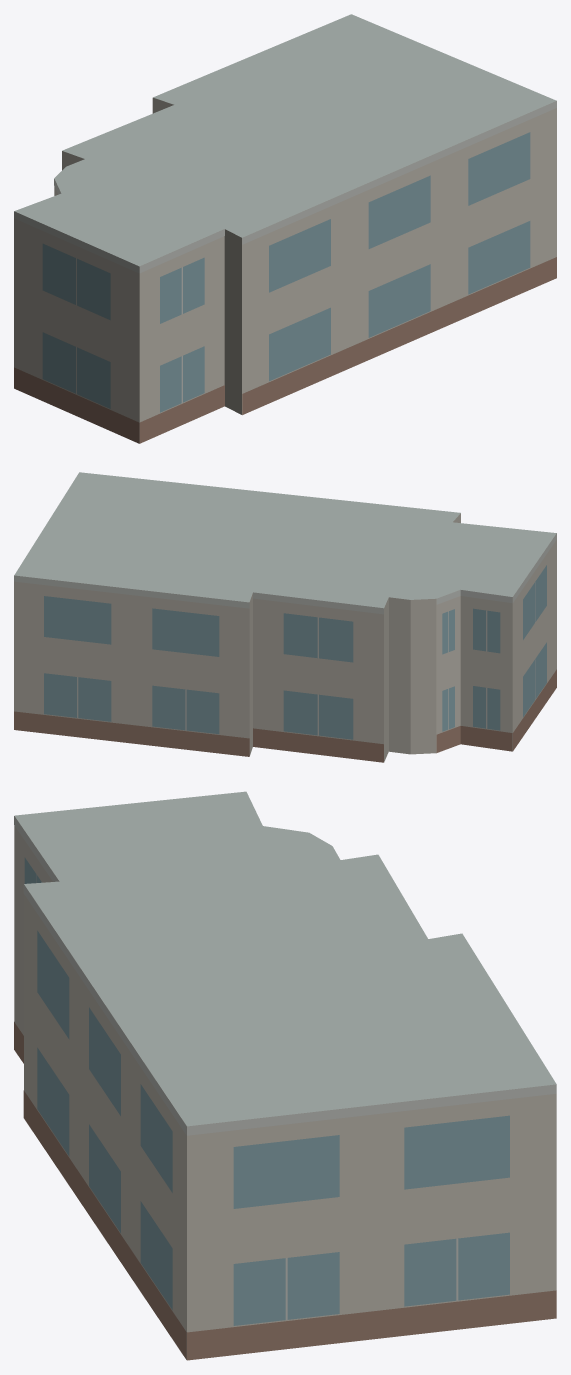
File: survey-upis-32847260.glb
3 views of the same model, one above another, from view 1: azimuth 30°, elevation 25°; view 2: azimuth 150°, elevation 25°; view 3: azimuth 270°, elevation 25° (orthographic). The views are drawn at different scales.
Parts seen in each view (by area): view 1: survey-upis-32847260.tmp; view 2: survey-upis-32847260.tmp; view 3: survey-upis-32847260.tmp.
Boxes of the visible parts, x1,y1,x2,y2 form: survey-upis-32847260.tmp: (14, 14, 556, 443); survey-upis-32847260.tmp: (14, 472, 556, 762); survey-upis-32847260.tmp: (14, 791, 556, 1360).
Bounding box in the file's own units: 18.74 × 6.1 × 12.83.
